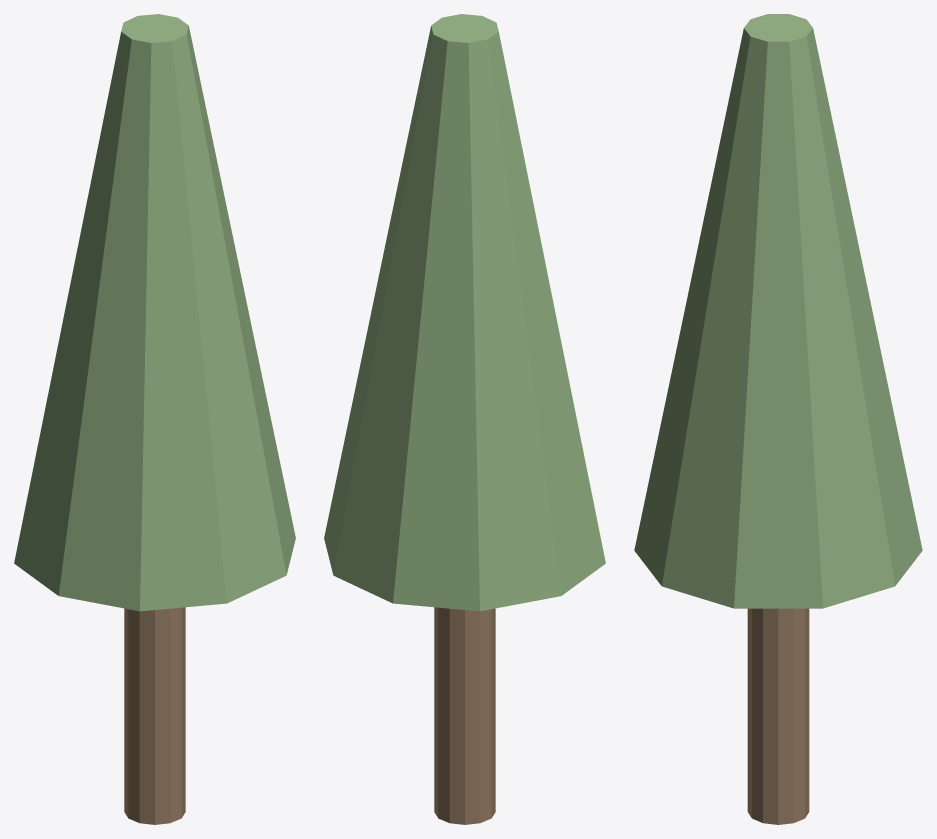
Rendered from prop_tree_tall.glb.
3 renders of one model, left to right at view 1: azimuth 30°, elevation 25°; view 2: azimuth 150°, elevation 25°; view 3: azimuth 270°, elevation 25°, orthographic.
Parts seen in each view (by area): view 1: prop_tree_tall-col; view 2: prop_tree_tall-col; view 3: prop_tree_tall-col.
Part boxes in pixels (bbox=[...]): prop_tree_tall-col: bbox=[14, 14, 295, 824]; prop_tree_tall-col: bbox=[324, 14, 605, 824]; prop_tree_tall-col: bbox=[634, 14, 922, 824].
Size of the model in its own units: 1.43 by 4.5 by 1.5.
